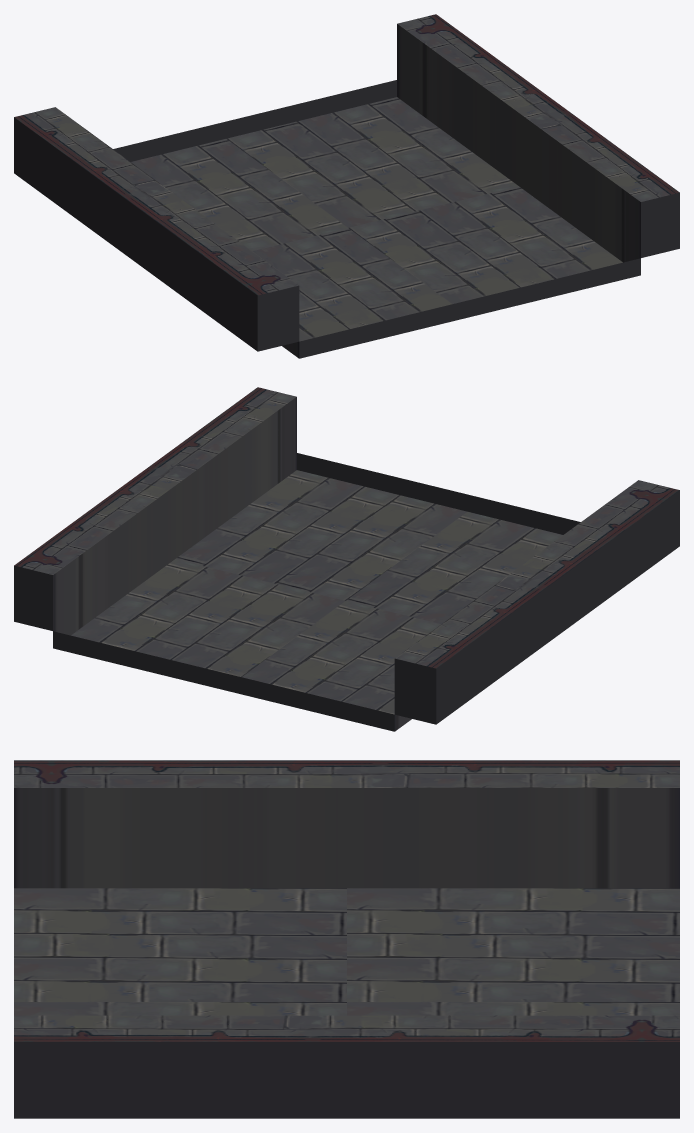
The model's file is Channel_Floor_Straight.glb.
3 renders of one model, top to bottom at view 1: azimuth 30°, elevation 25°; view 2: azimuth 150°, elevation 25°; view 3: azimuth 270°, elevation 25°, orthographic. The views are drawn at different scales.
Visible parts, largest first — view 1: Plane.004; view 2: Plane.004; view 3: Plane.004.
Boxes of the visible parts, <box> form: Plane.004: <box>14,14,679,358</box>; Plane.004: <box>14,387,679,731</box>; Plane.004: <box>14,760,679,1118</box>.
Size of the model in its own units: 4.05 by 0.6722 by 4.05.
1 material, 1 textured.
